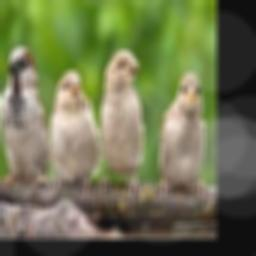Sparrow: (0, 45, 49, 194), (98, 50, 143, 205), (157, 72, 206, 204), (49, 69, 100, 193)
